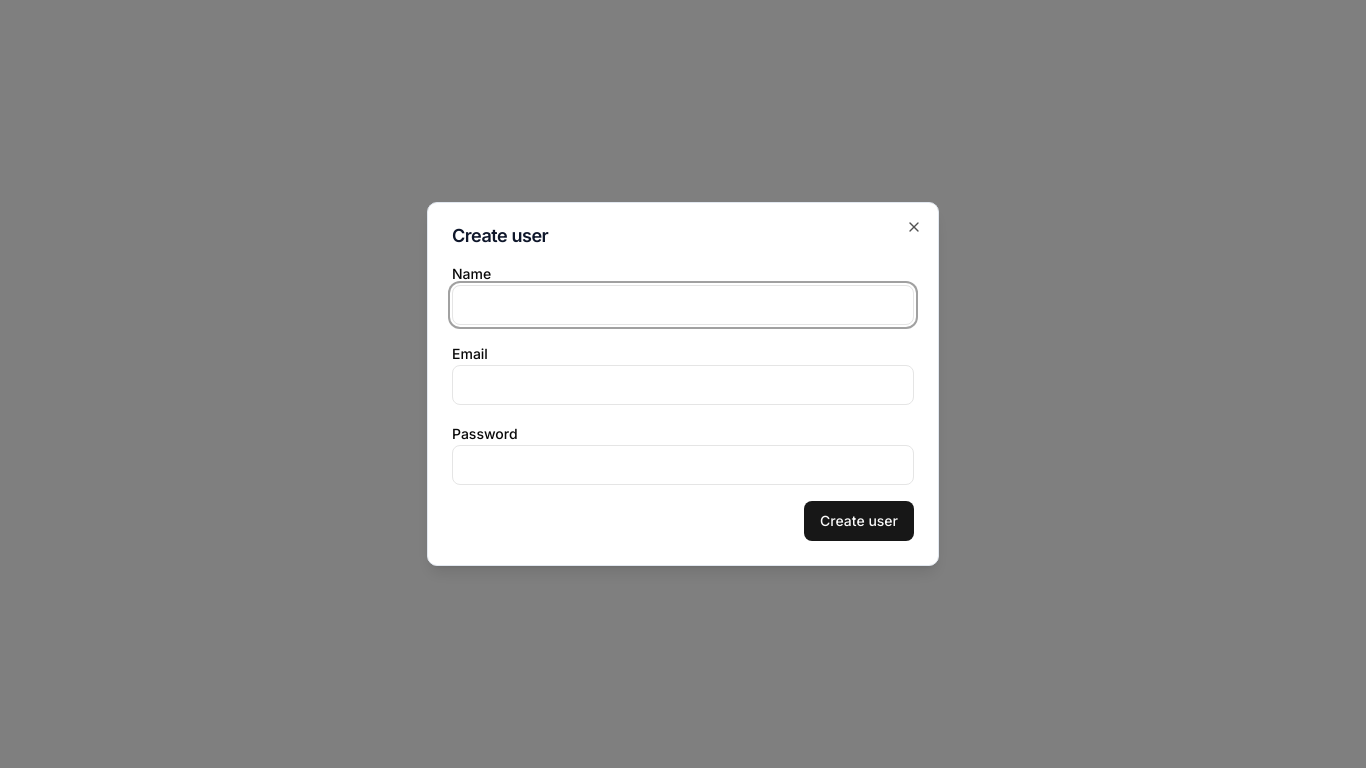
Test: UserFormDialog › create mode › requires a non-empty password
Check: the dialog is shown, box [427,202,939,566]
Type "New Person" into the field labelled "Name" at x=683, y=305, box [452,285,914,325]
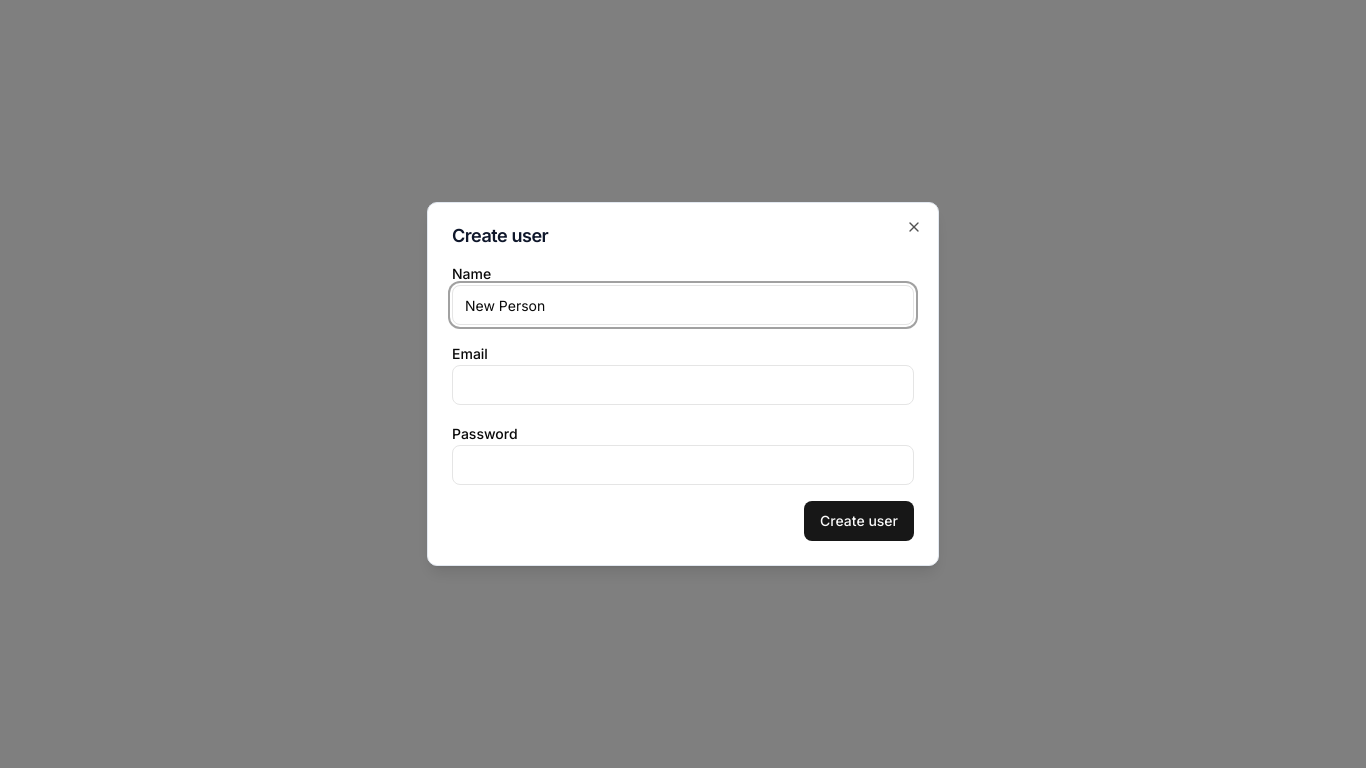
Type "new@example.com" into the field labelled "Email" at x=683, y=385, box [452,365,914,405]
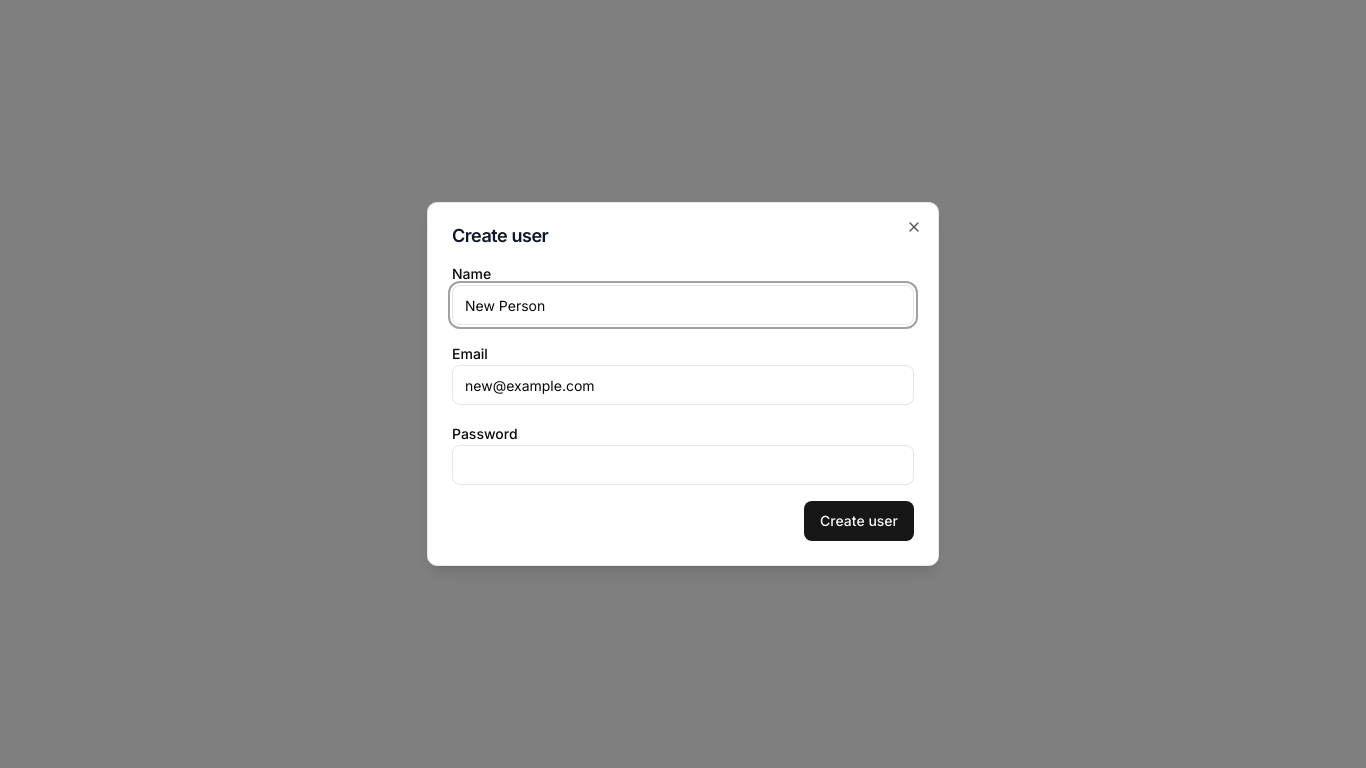
Click the button "Create user" at x=859, y=521, box [804,501,914,541]
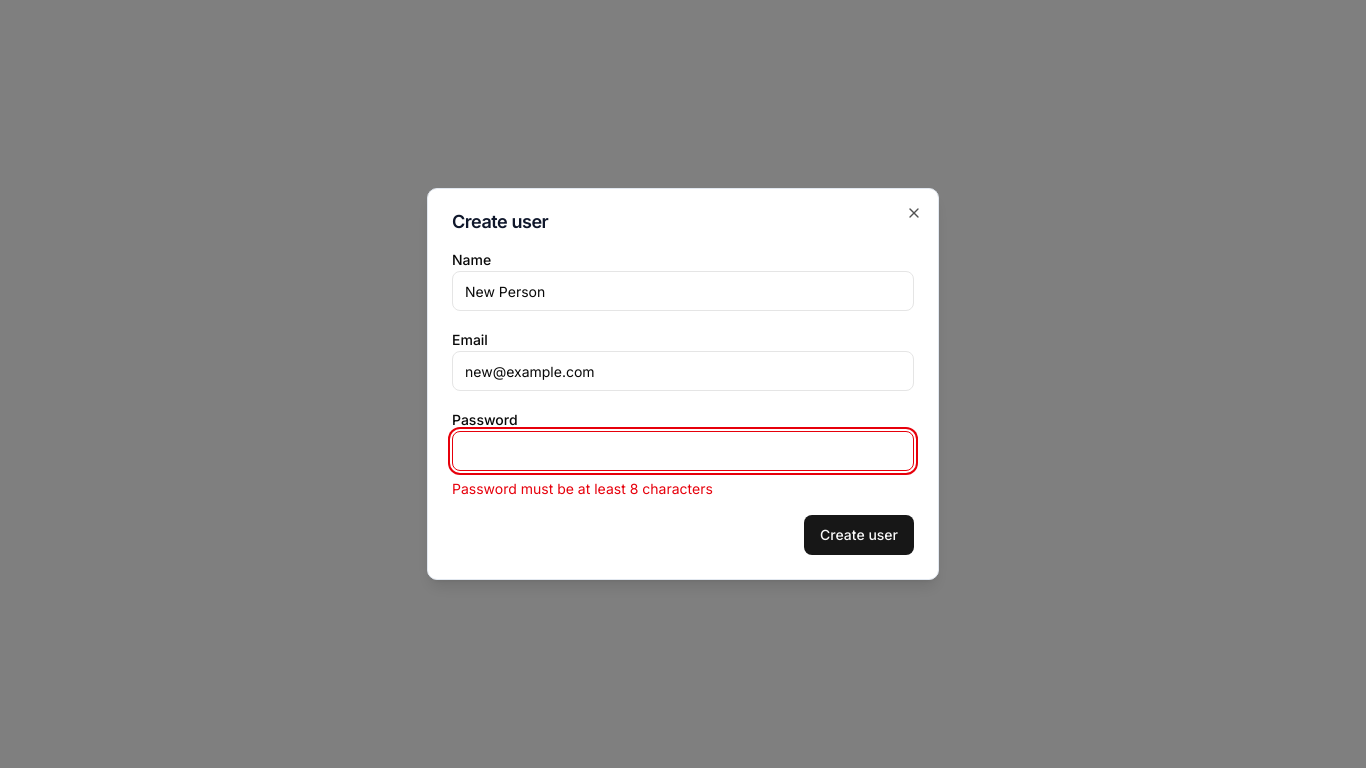
Check: the text "Password must be at least 8 characters" is shown, box [452,480,713,497]
